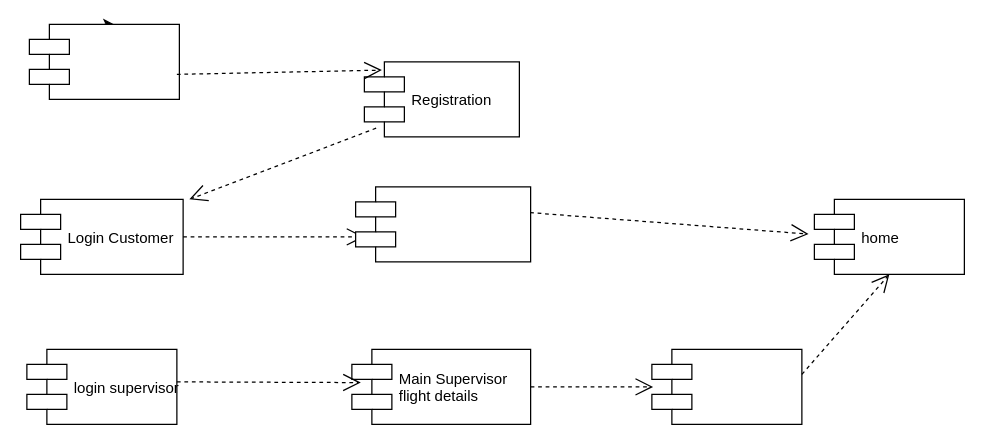
Image size: 985x445. Some labels were removed from this diagram. The centre of each missing label's shape, as x and y in pixels:
Finalize Ticket: (726,386)
Main customer book ticket: (442,224)
Registration .html: (103,61)
